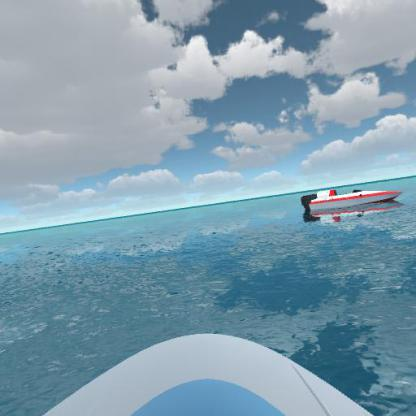usv3: (300, 178, 405, 219)
